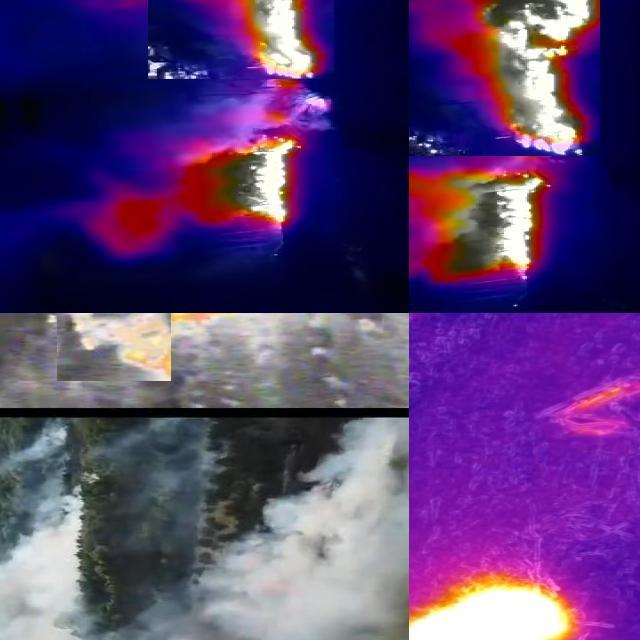fire: (410, 1, 601, 156), (201, 88, 337, 226), (410, 166, 551, 279), (149, 1, 335, 79), (410, 580, 577, 640), (58, 314, 172, 381)
